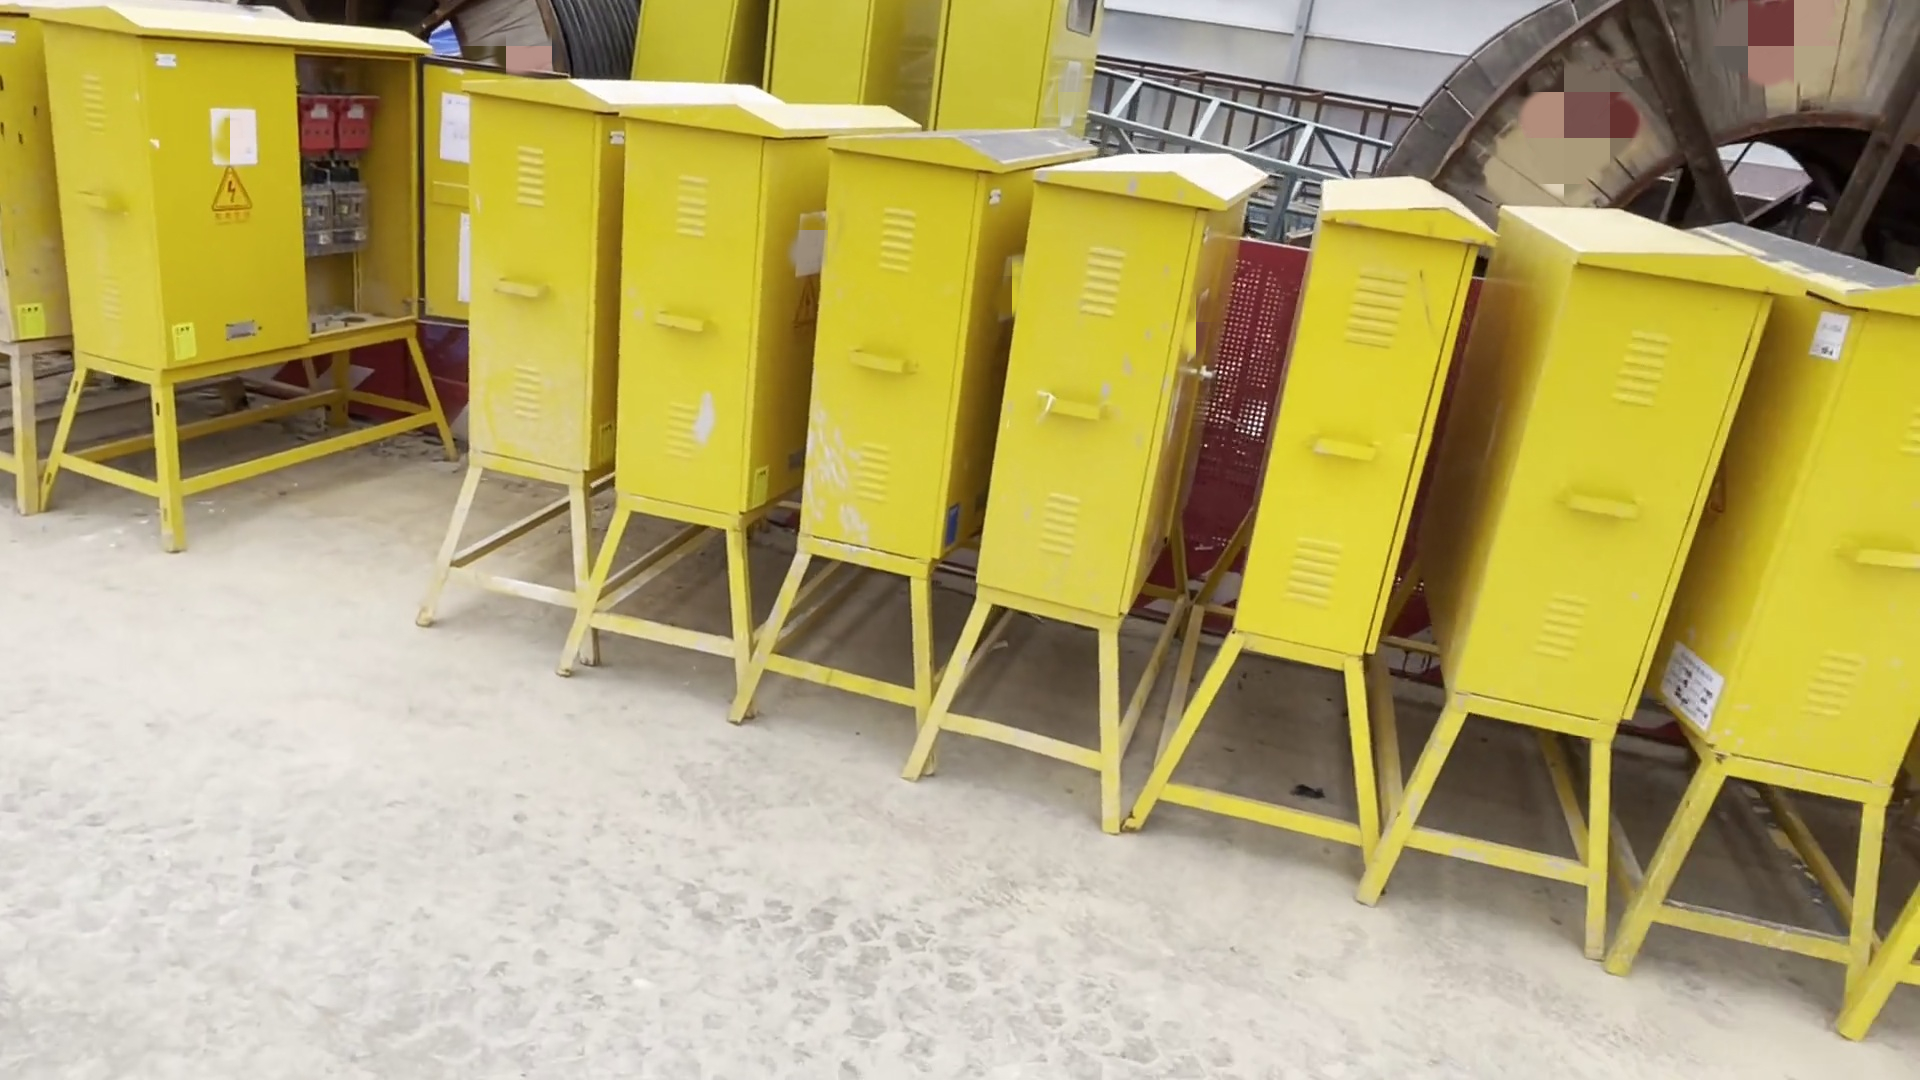ebox: (1386, 193, 1749, 902), (1124, 182, 1491, 847), (909, 149, 1271, 785), (13, 1, 475, 500), (1589, 202, 1878, 978), (731, 146, 1089, 737), (413, 88, 779, 641), (568, 107, 924, 674), (943, 1, 1091, 153), (786, 1, 930, 138), (624, 1, 750, 107)
